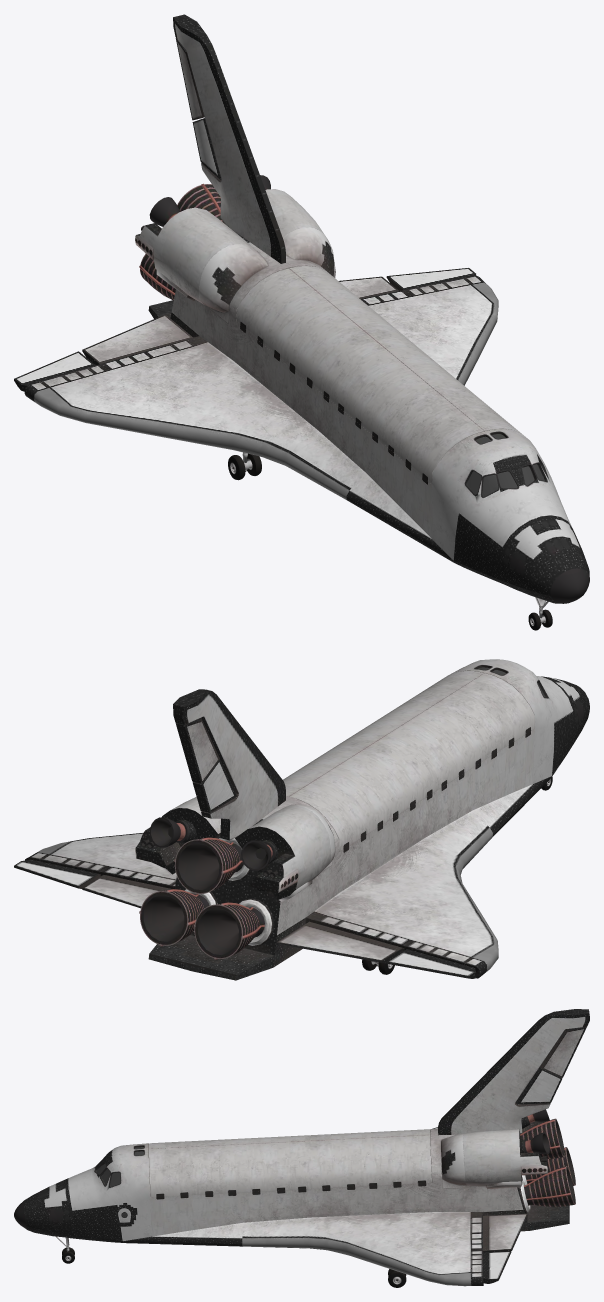
Rendered from shuttle.glb.
The picture shows the model from 3 angles, top to bottom: view 1: azimuth 30°, elevation 25°; view 2: azimuth 150°, elevation 25°; view 3: azimuth 270°, elevation 25°; orthographic projection. The views are drawn at different scales.
Parts seen in each view (by area): view 1: space_shuttle.1; view 2: space_shuttle.1; view 3: space_shuttle.1.
Part boxes in pixels (x1,y1,x2,y2): space_shuttle.1: (14,14,589,630); space_shuttle.1: (14,659,589,980); space_shuttle.1: (14,1009,589,1287).
Bounding box in the file's own units: 0.6688 × 0.4883 × 1.02.
1 material, 1 textured.
